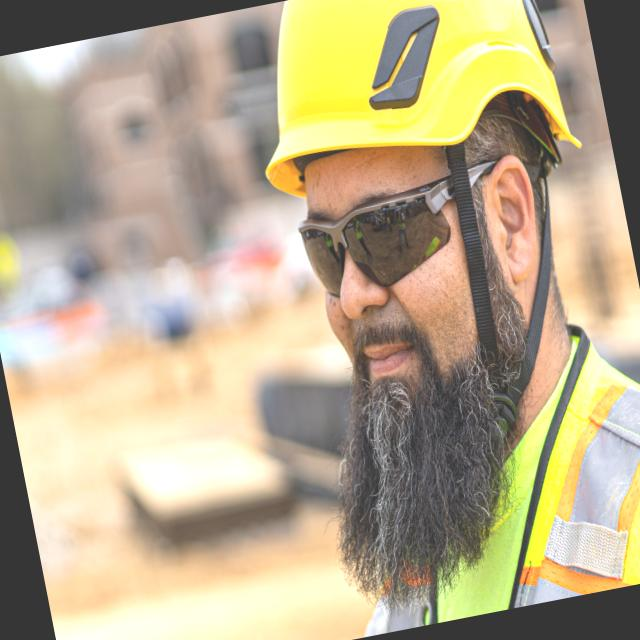goggles: (286, 138, 554, 304)
helmet: (222, 0, 592, 212)
vest: (323, 302, 640, 635)
